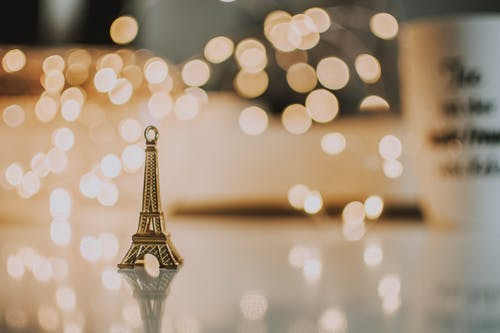eiffel tower: (111, 116, 184, 276)
